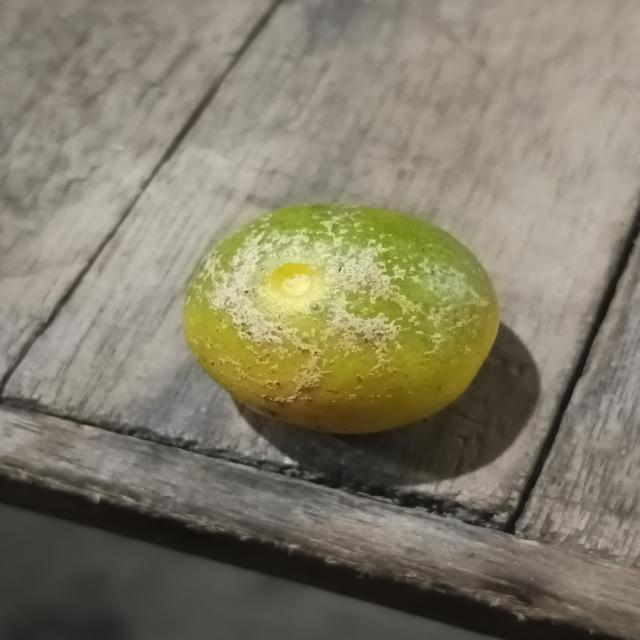thrips: (182, 198, 503, 436)
